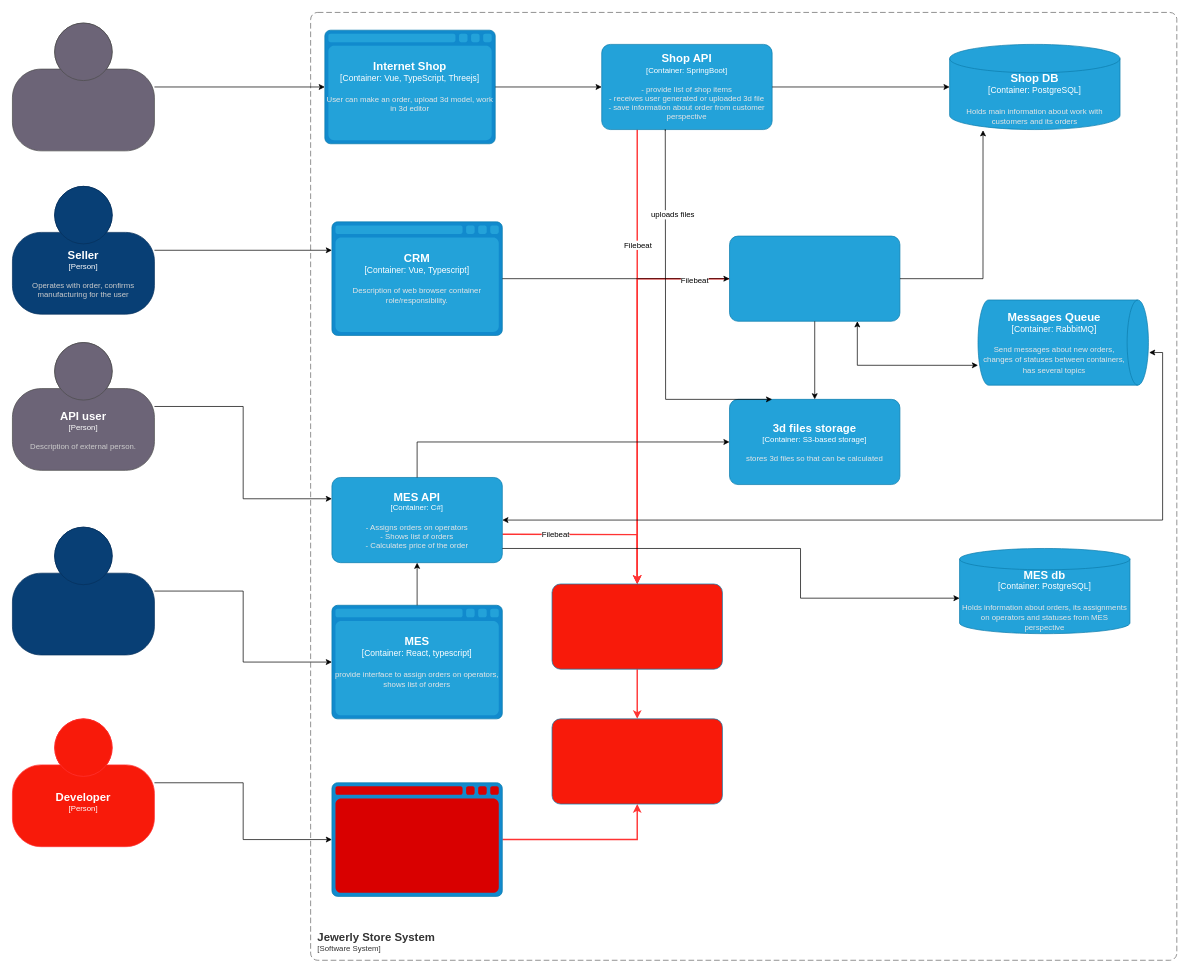
Some shapes in this 1189 by 973 pixel diagram are drawn without their labels. The centre of each missing label's shape, as x and y in pixels:
CRM API [Container: SpringBoot] Description of container role/responsibility.: pixel 814 278
Customer [Person] Description of external person.: pixel 83 86
Elasticsearch [Container: ]: pixel 636 761
Kibana [Container: ] Logs UI: pixel 416 839
Logstash [Container: ]: pixel 636 626
Operator [Person] Takes order in work, manufactures jewerly: pixel 83 590
